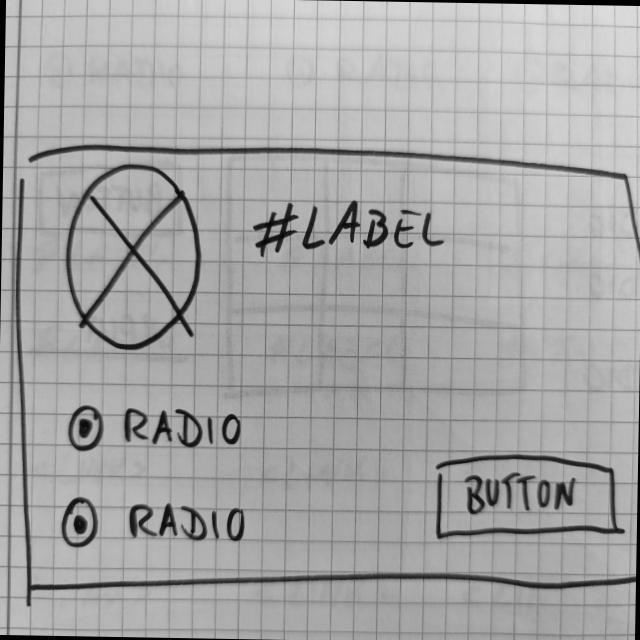button: (431, 449, 626, 549)
container: (10, 137, 640, 604)
image: (63, 160, 210, 355)
label: (245, 195, 449, 263)
radio: (59, 494, 105, 555), (67, 399, 108, 460)
